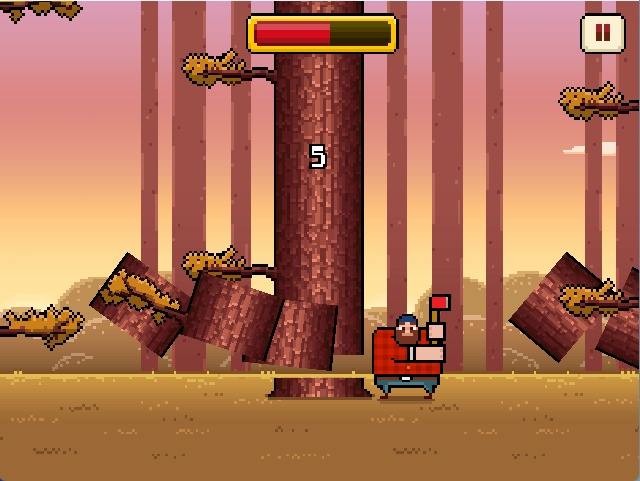left_obs: (171, 47, 281, 101)
timberman: (370, 292, 465, 403)
